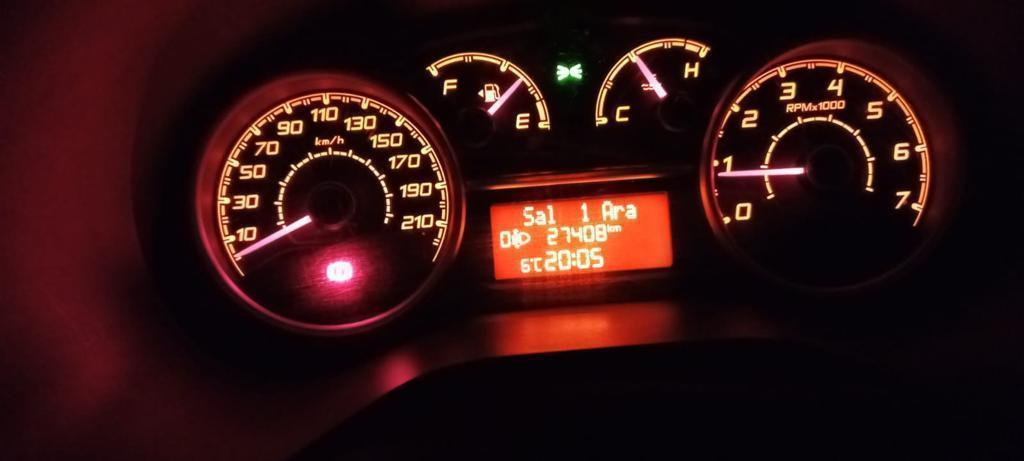0: (576, 247, 590, 269), (557, 249, 570, 270), (499, 230, 511, 248), (583, 225, 595, 242)
1: (580, 200, 590, 222)
2: (544, 250, 557, 272), (546, 226, 558, 245)
4: (571, 225, 582, 242)
5: (590, 246, 604, 268)
6: (520, 257, 530, 272)
7: (559, 226, 570, 243)
8: (595, 223, 606, 241)
X: (601, 199, 613, 221), (522, 205, 534, 227), (546, 203, 556, 225), (625, 203, 637, 219), (534, 209, 546, 225), (613, 204, 624, 219), (533, 256, 542, 272), (612, 224, 622, 233), (571, 251, 575, 266), (607, 223, 612, 232)
odometer: (485, 188, 674, 281)
